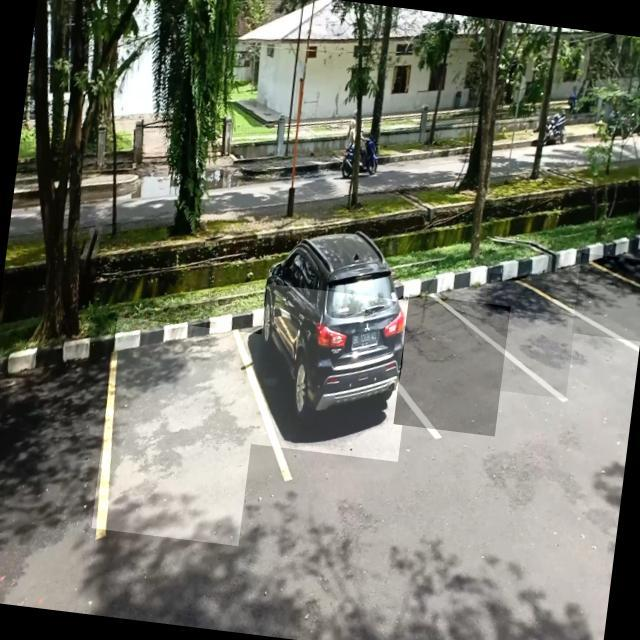empty: (92, 316, 264, 546), (393, 294, 510, 436), (475, 272, 579, 399), (571, 252, 640, 341)
occupied: (248, 284, 417, 462)
